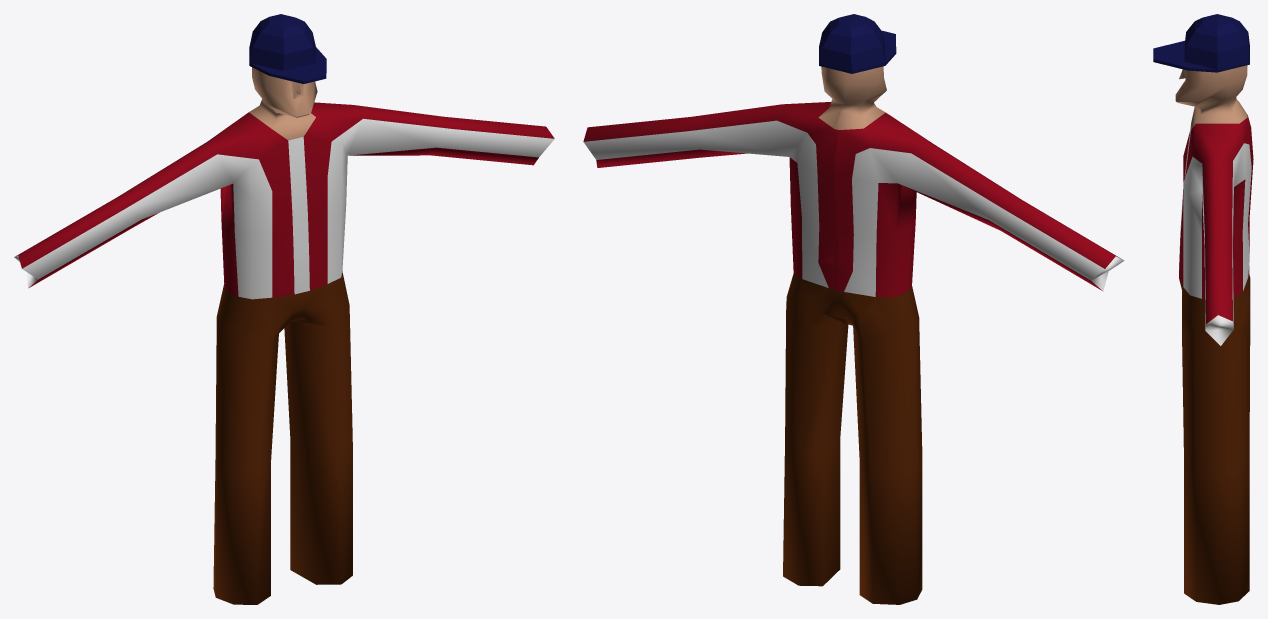
Rendered from Gaurd or whatever.fbx.
3 renders of one model, left to right at view 1: azimuth 30°, elevation 25°; view 2: azimuth 150°, elevation 25°; view 3: azimuth 270°, elevation 25°, orthographic.
Visible parts, largest first — view 1: pSphere2; view 2: pSphere2; view 3: pSphere2.
Part boxes in pixels (x1,y1,x2,y2): pSphere2: (14,14,554,604); pSphere2: (583,14,1124,604); pSphere2: (1153,14,1253,604).
Bounding box in the file's own units: 7.2 × 7.28 × 1.19.
